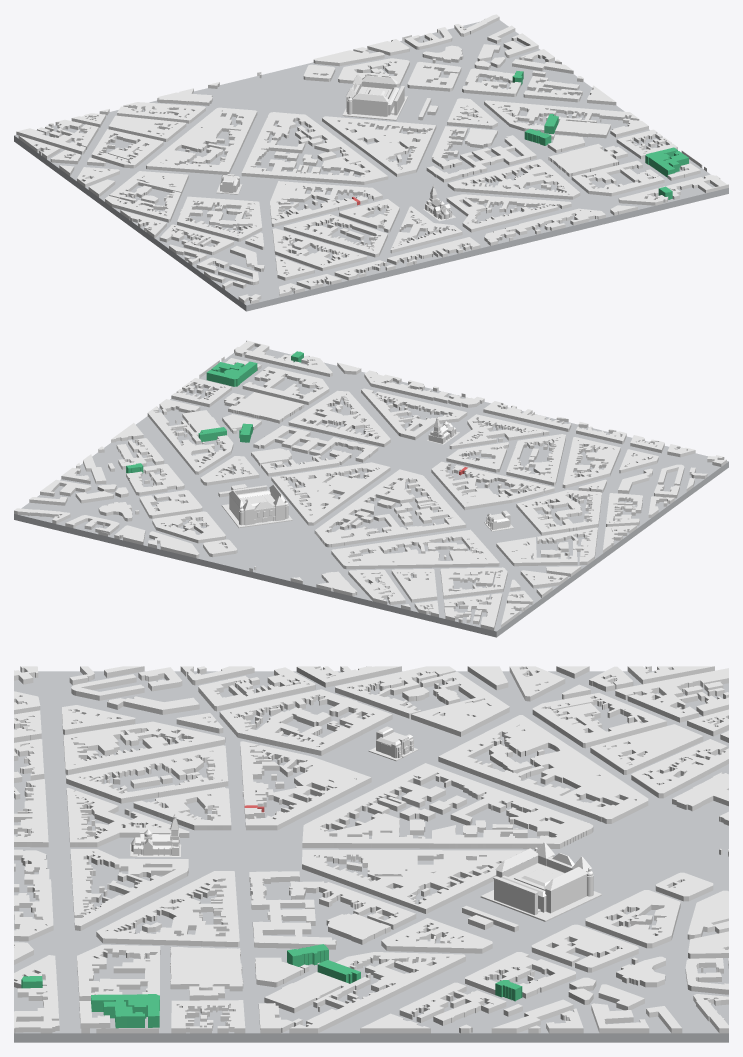
File: lille_source_authority_all_buildings.glb
3 views of the same model, one above another, from view 1: azimuth 30°, elevation 25°; view 2: azimuth 150°, elevation 25°; view 3: azimuth 270°, elevation 25° (orthographic). The views are drawn at different scales.
Visible parts, largest first — view 1: standard_building_or_marker, flat_lille_test_terrain, landmark_micro_model_palais_beaux_arts_lille, enhanced_landmark_massing, landmark_micro_model_saint_michel_lille; view 2: standard_building_or_marker, flat_lille_test_terrain, landmark_micro_model_palais_beaux_arts_lille, enhanced_landmark_massing, landmark_micro_model_saint_michel_lille; view 3: standard_building_or_marker, flat_lille_test_terrain, landmark_micro_model_palais_beaux_arts_lille, enhanced_landmark_massing, landmark_micro_model_saint_michel_lille, landmark_micro_model_theatre_sebastopol_lille.
Boxes of the visible parts, bbox=[...] form: standard_building_or_marker: bbox=[16, 14, 728, 304]; flat_lille_test_terrain: bbox=[14, 20, 728, 311]; landmark_micro_model_palais_beaux_arts_lille: bbox=[342, 74, 407, 120]; enhanced_landmark_massing: bbox=[512, 71, 688, 199]; landmark_micro_model_saint_michel_lille: bbox=[423, 185, 455, 221]; standard_building_or_marker: bbox=[14, 340, 726, 630]; flat_lille_test_terrain: bbox=[14, 346, 728, 637]; landmark_micro_model_palais_beaux_arts_lille: bbox=[221, 484, 292, 527]; enhanced_landmark_massing: bbox=[126, 351, 303, 473]; landmark_micro_model_saint_michel_lille: bbox=[427, 417, 459, 444]; standard_building_or_marker: bbox=[14, 666, 728, 1033]; flat_lille_test_terrain: bbox=[14, 671, 728, 1042]; landmark_micro_model_palais_beaux_arts_lille: bbox=[480, 842, 601, 921]; enhanced_landmark_massing: bbox=[21, 944, 522, 1028]; landmark_micro_model_saint_michel_lille: bbox=[130, 814, 181, 856]; landmark_micro_model_theatre_sebastopol_lille: bbox=[368, 726, 418, 761].
Size of the model in its own units: 4 by 0.2402 by 3.34.
